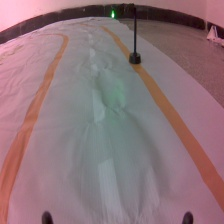green: (110, 7, 144, 69)
